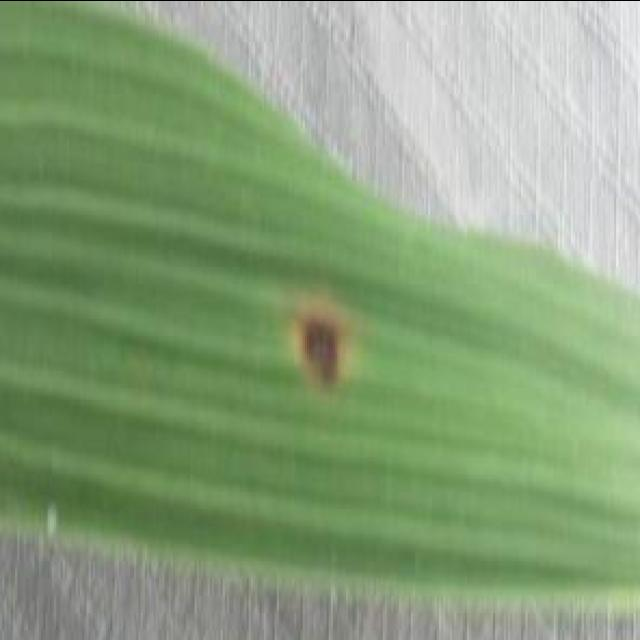Brown_Spot: (286, 296, 364, 411)
